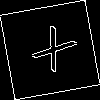X: (25, 25, 78, 82)
